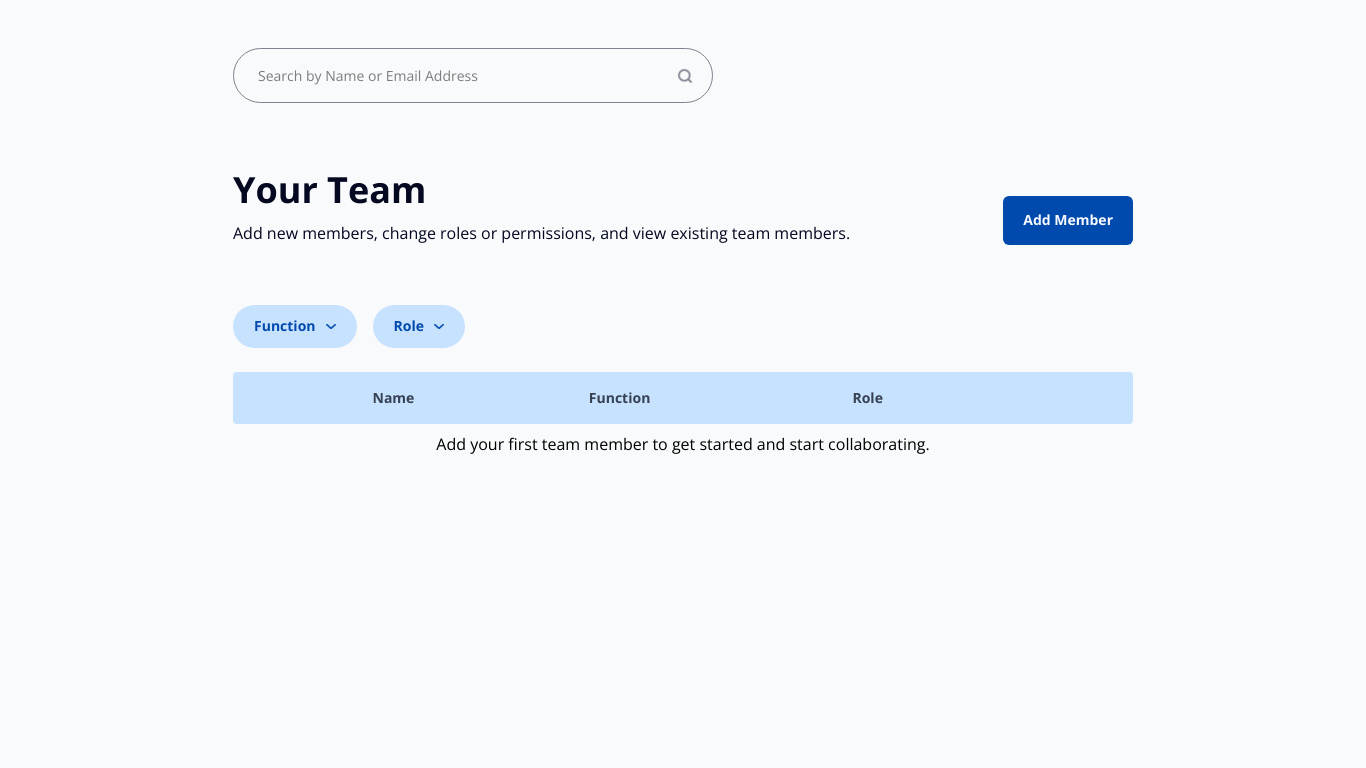
Scenario: Team Management App › successful add closes modal and shows toast
Click the button "Add Member" at x=1068, y=221, box 1003,196 -> 1133,245
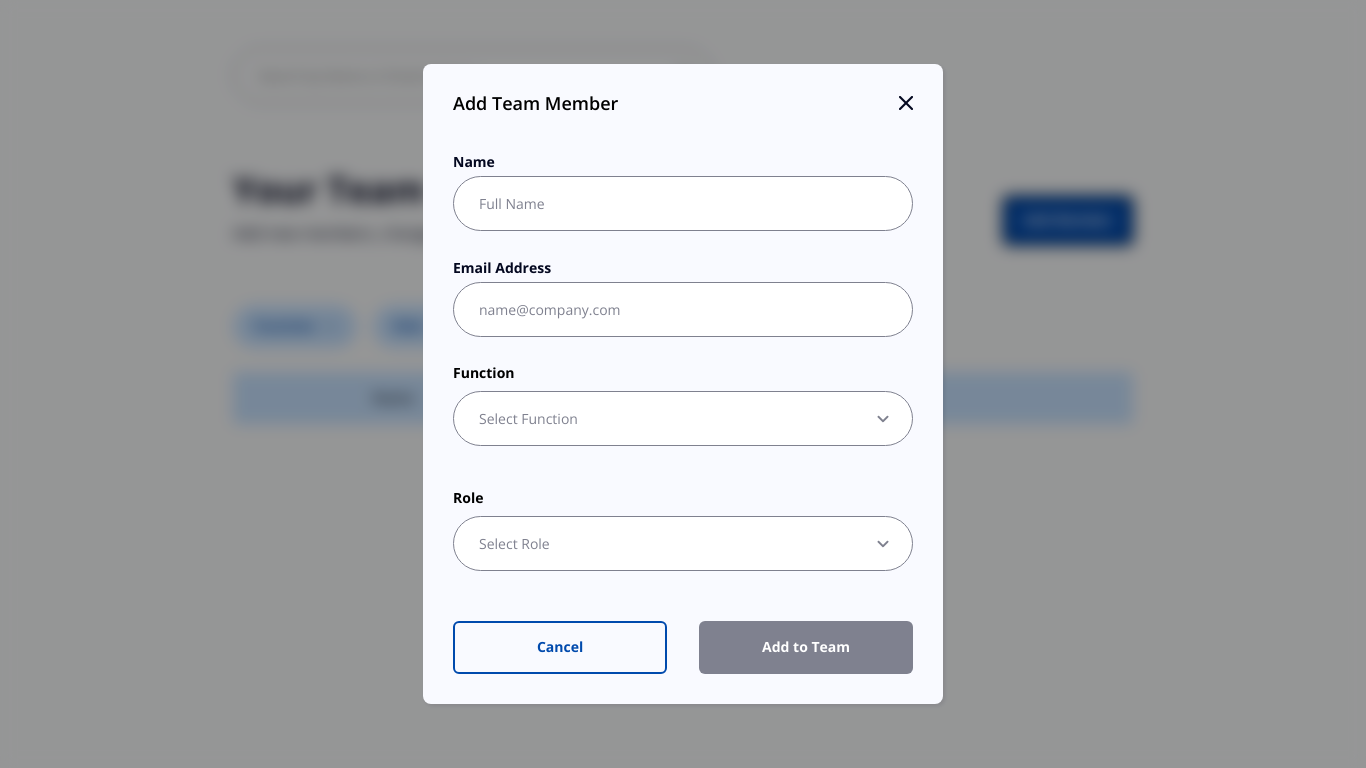
Type "Sanjay Sakthivel" into the field labelled "Name" at x=683, y=204, box 453,176 -> 913,231
Type "sanjay@test.com" into the field with placeholder "name@company.com" at x=683, y=310, box 453,282 -> 913,337
Click the button "Select Function" at x=528, y=419, box 453,391 -> 913,446
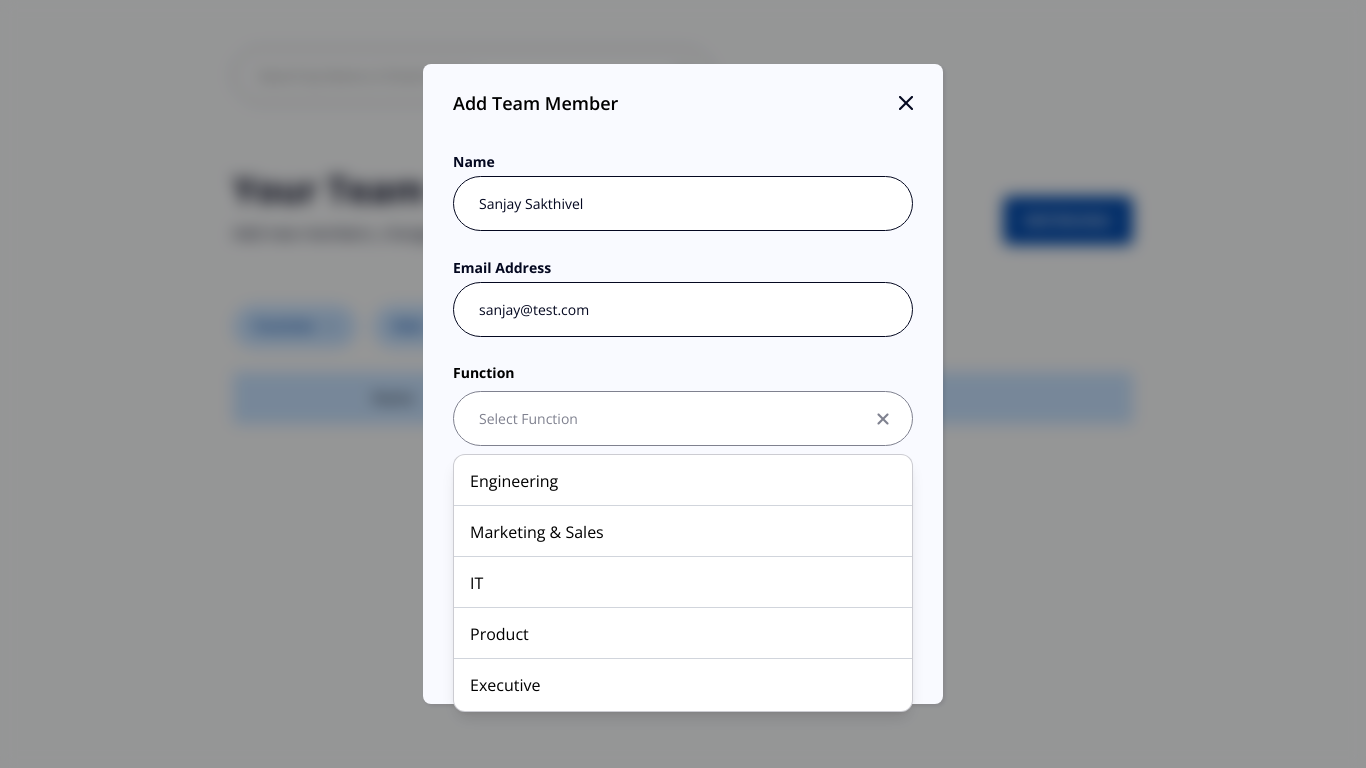
Click the button "Engineering" at x=514, y=481, box 454,459 -> 912,510
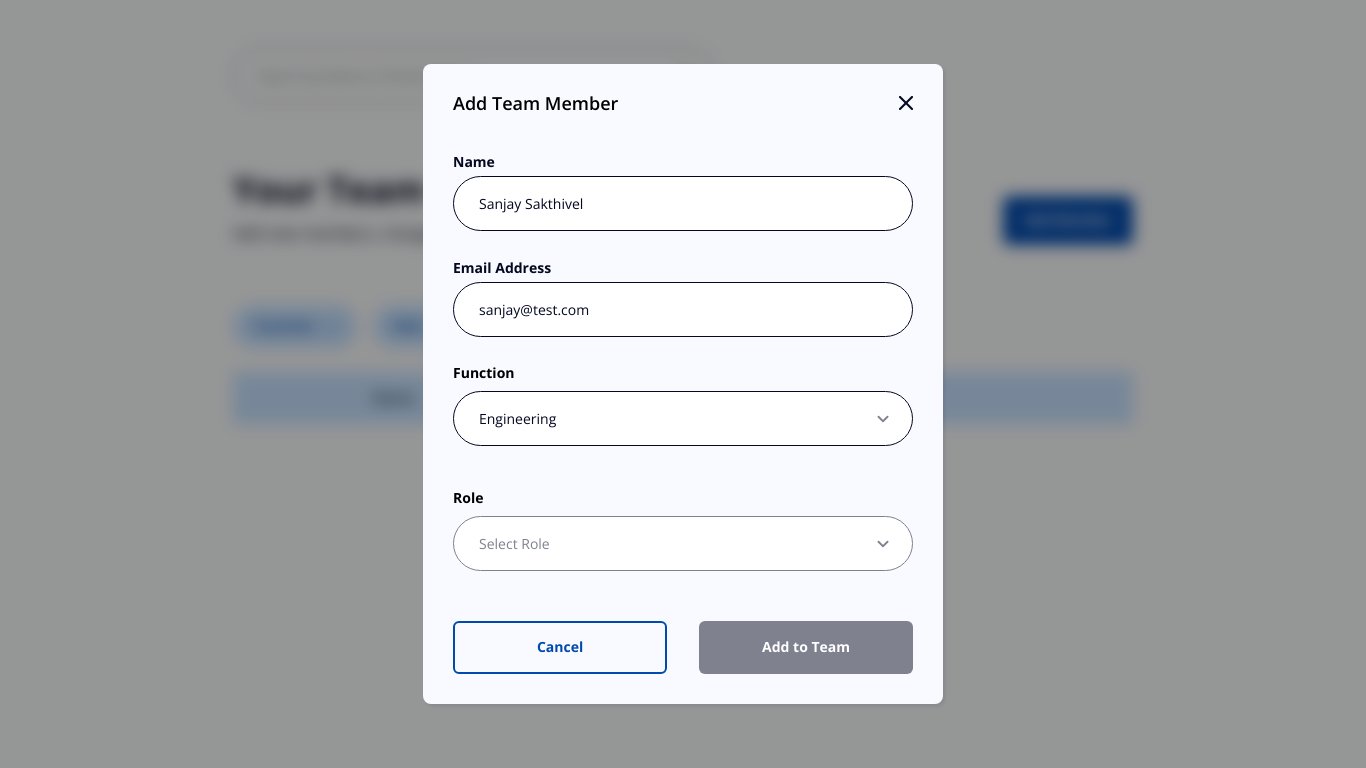
Click the button "Select Role" at x=514, y=544, box 453,516 -> 913,571
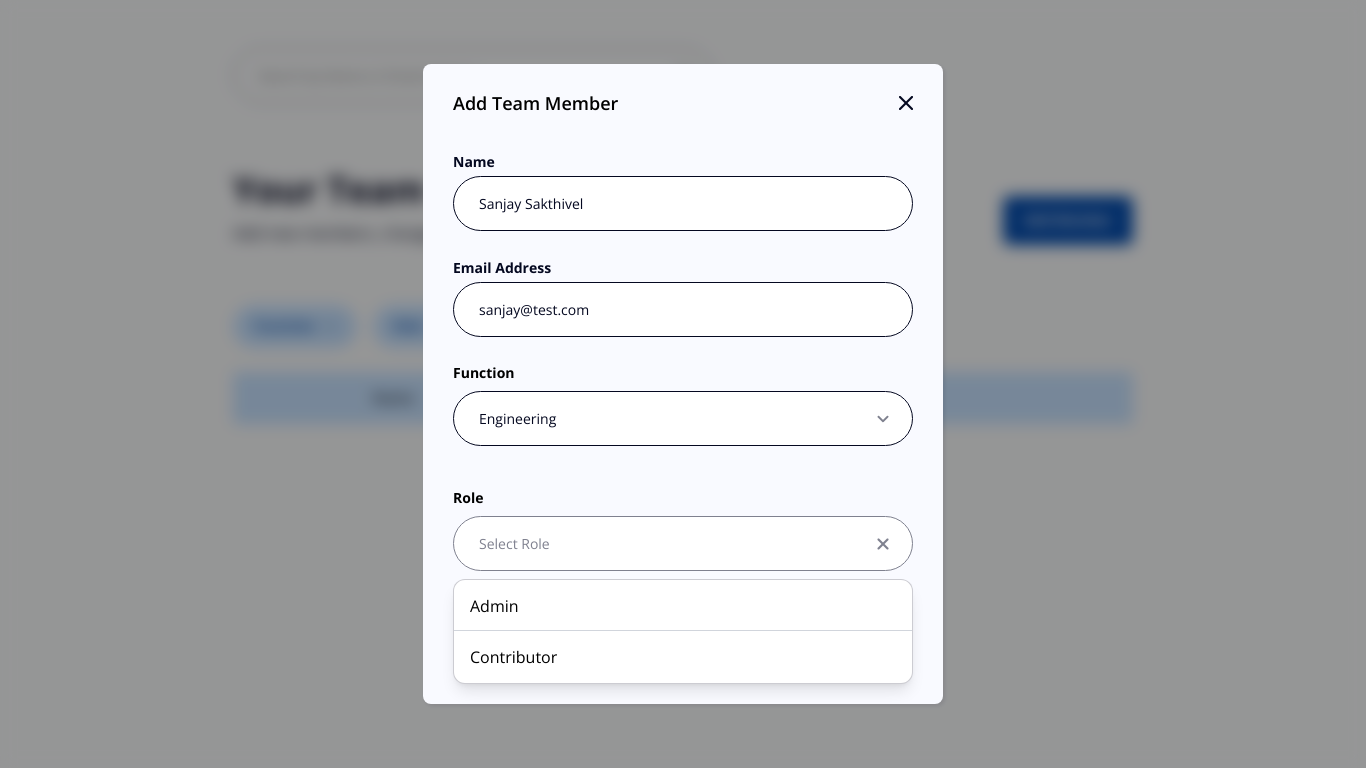
Click the button "Admin" at x=494, y=606, box 454,584 -> 912,635
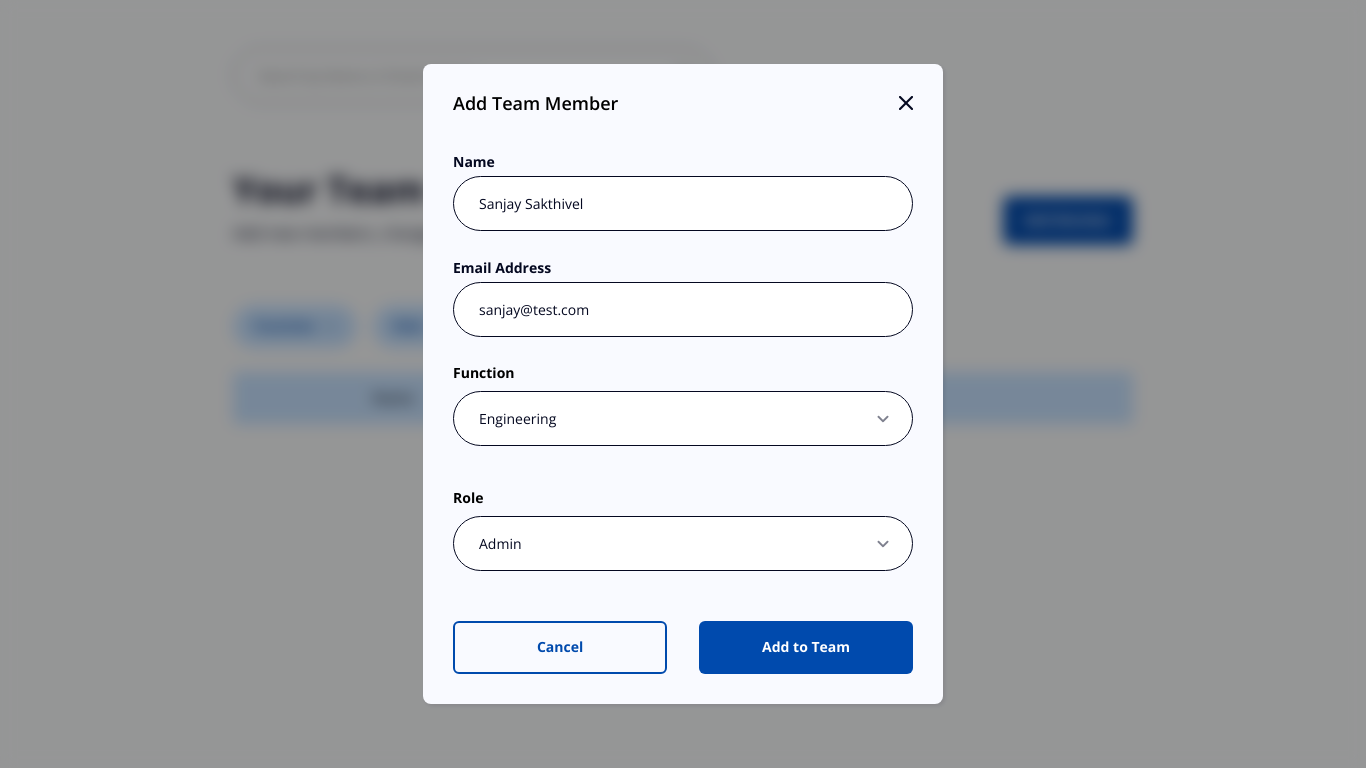
Click the button "Add to Team" at x=806, y=648, box 699,621 -> 913,674
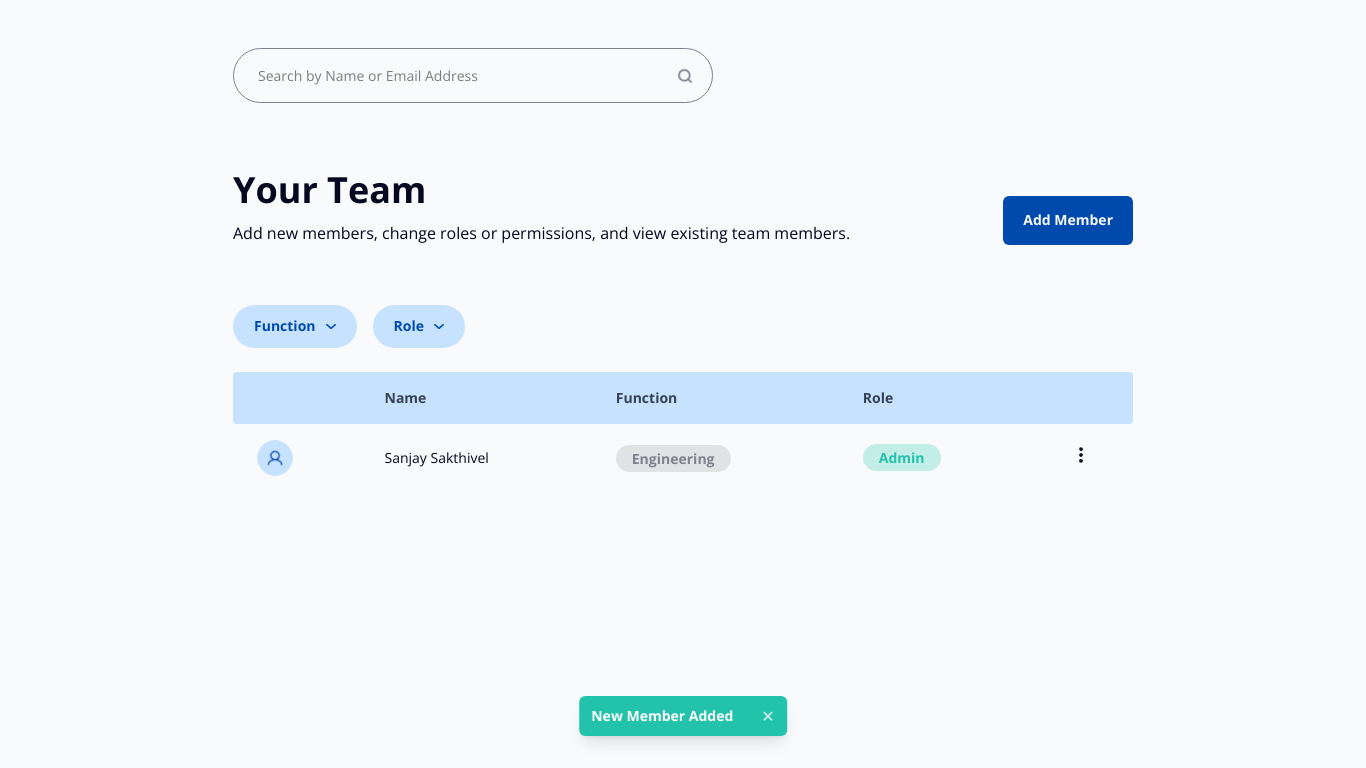
Expected: the text "New Member Added" is shown, 591,706 -> 733,726
Expected: the text "Sanjay Sakthivel" is shown, 360,424 -> 592,492
